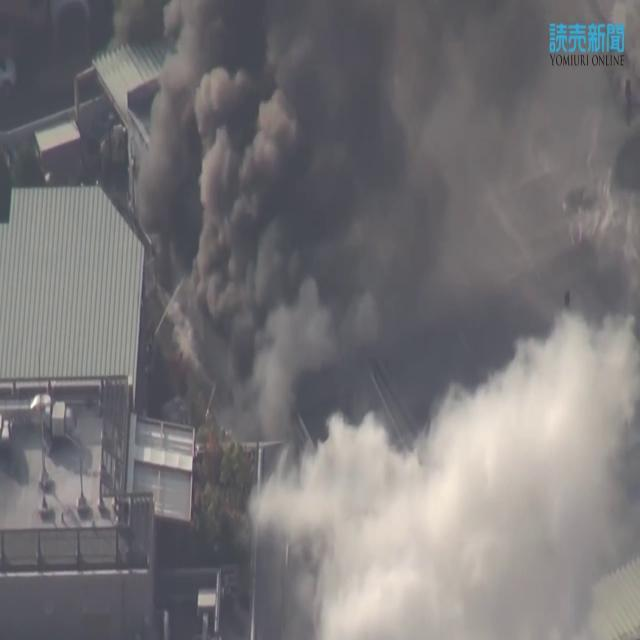Smoke: (118, 0, 640, 607)
